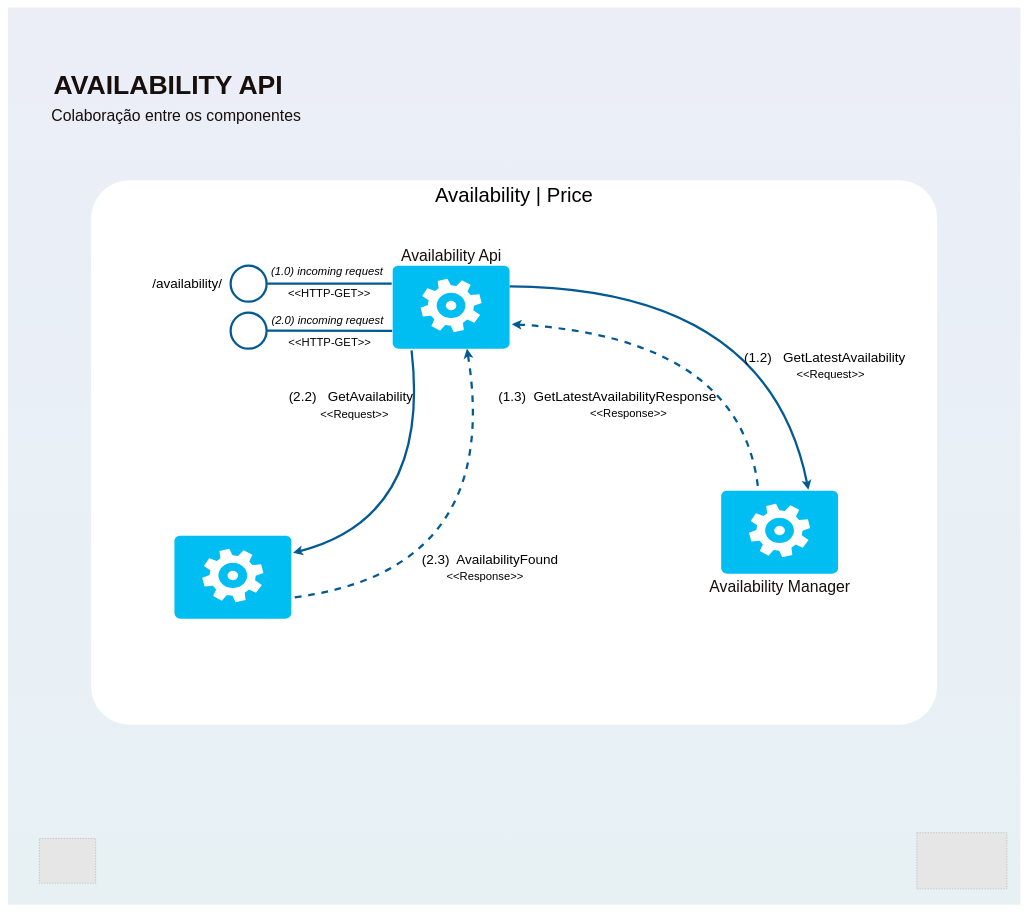
The diagram is 1028 pixels wide and 913 high, and some of its shapes have lost their labels. Grey dashed boxes stand in for pictures. The centre of each missing label's shape, as x and y in pixels:
"/availability/partner/" belongs at (248,330).
"Availability Search" belongs at (232,577).
